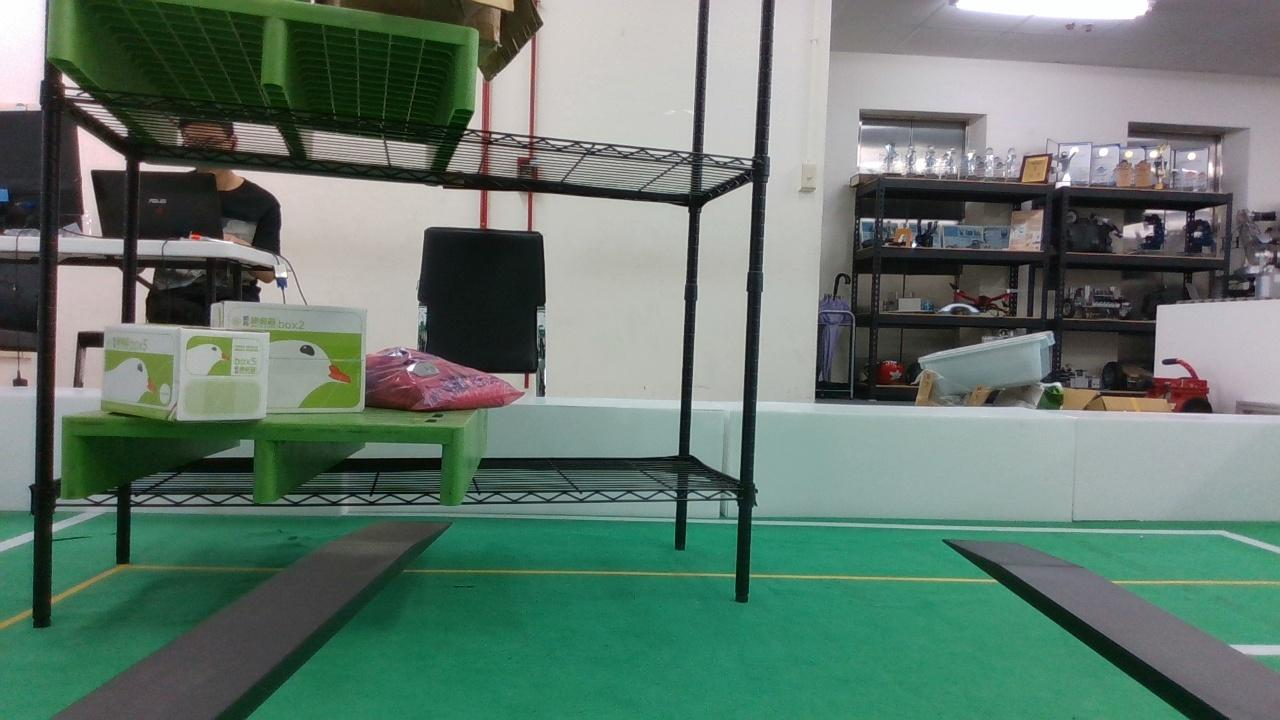Pallet: (40, 0, 490, 118), (63, 425, 466, 512)
